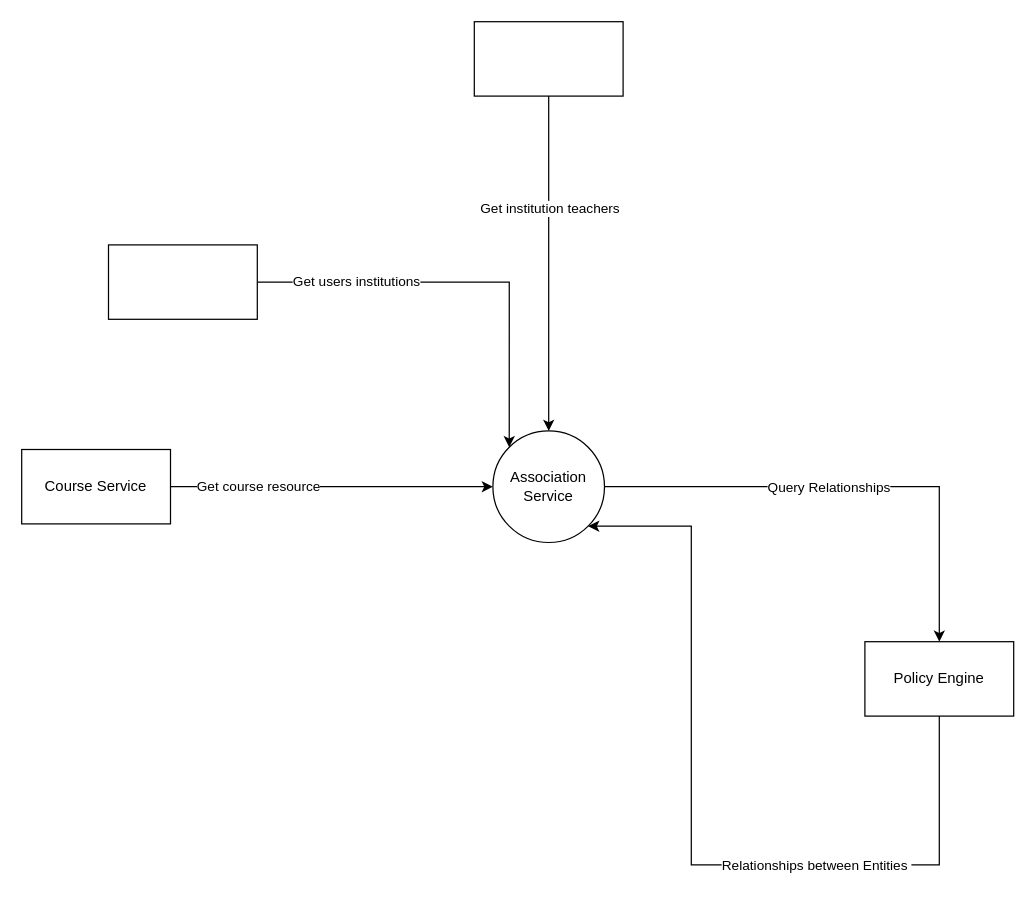
Image size: 1035x897. Some labels were removed from this diagram. The box of each missing label's shape, as (x1, y1, x2, y2) in pixels:
Institution Service: (473, 20, 623, 96)
User Service: (107, 244, 257, 319)
